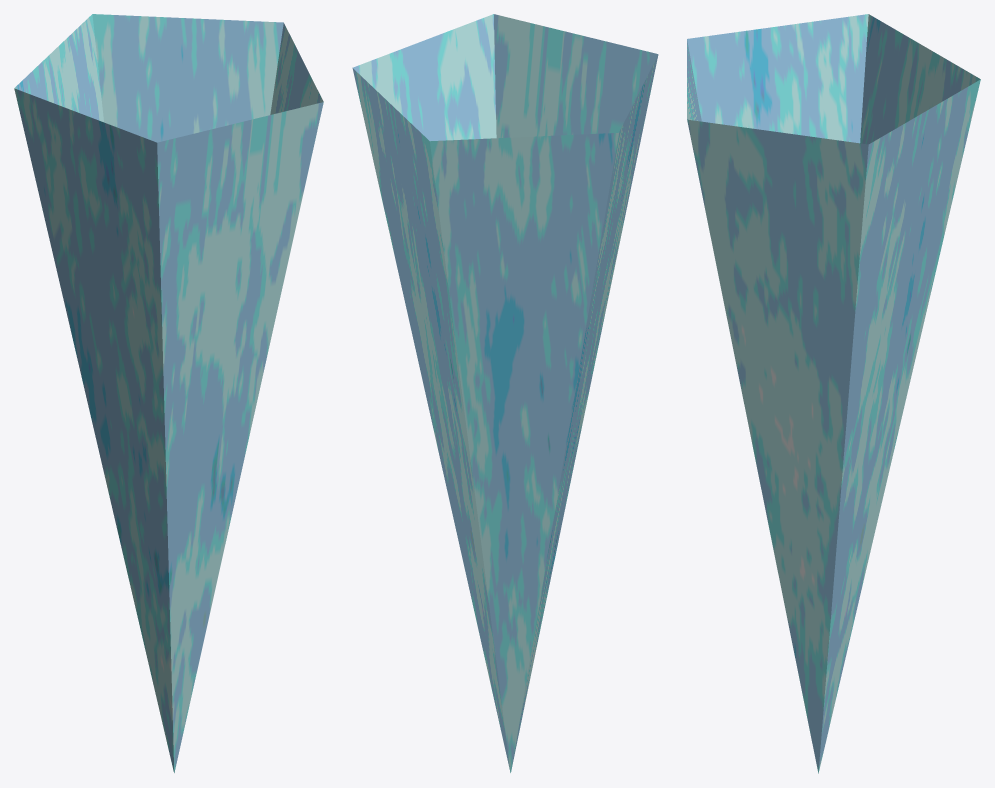
Rendered from gelo.fbx.
The picture shows the model from 3 angles, left to right: view 1: azimuth 30°, elevation 25°; view 2: azimuth 150°, elevation 25°; view 3: azimuth 270°, elevation 25°; orthographic projection.
Parts seen in each view (by area): view 1: Cone; view 2: Cone; view 3: Cone.
Part boxes in pixels (x1,y1,x2,y2): Cone: (14, 14, 323, 772); Cone: (352, 14, 658, 772); Cone: (687, 14, 980, 773).
Bounding box in the file's own units: 40.36 × 100 × 38.39.
1 material, 1 textured.
